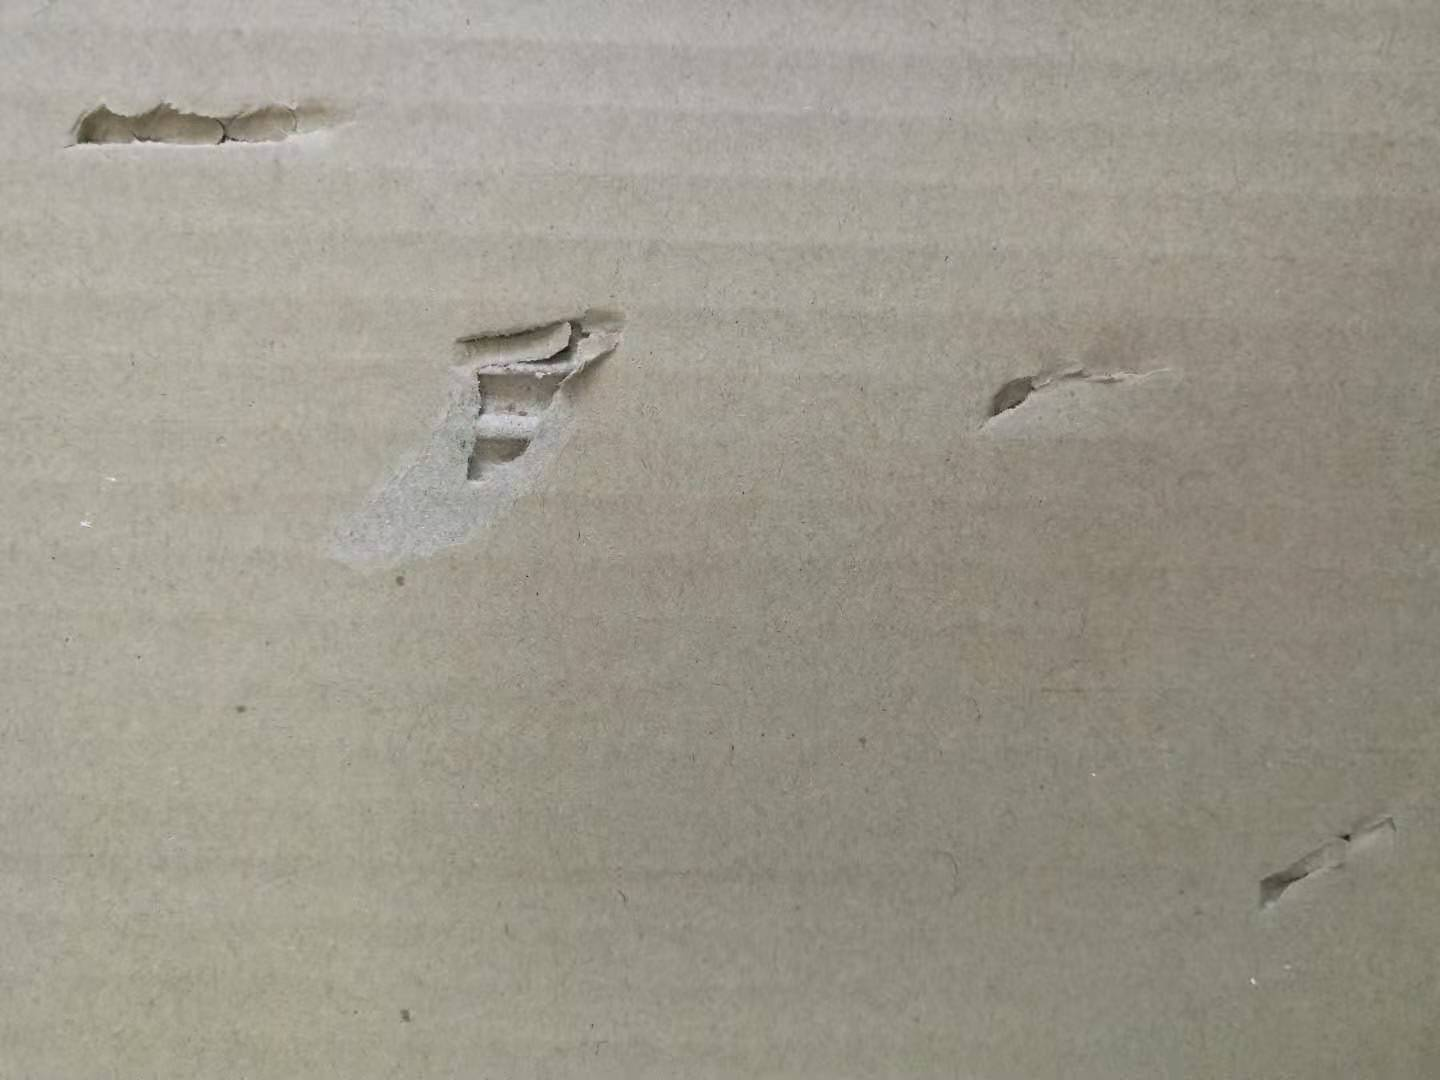defect: (296, 280, 660, 600), (44, 51, 393, 185), (947, 315, 1219, 454), (1233, 775, 1428, 928)
